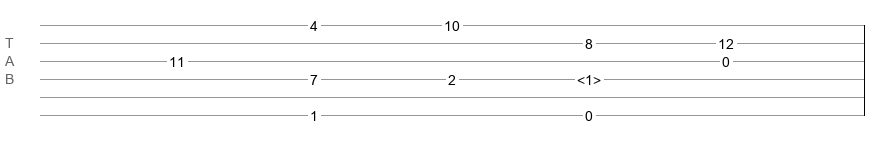0: (585, 108, 593, 118), (722, 54, 730, 64)
1: (310, 108, 318, 118)
10: (444, 18, 460, 28)
11: (169, 54, 185, 64)
12: (718, 36, 734, 46)
2: (448, 72, 456, 82)
4: (310, 18, 318, 28)
7: (310, 72, 318, 82)
8: (585, 36, 593, 46)
harmonic: (577, 72, 601, 82)
